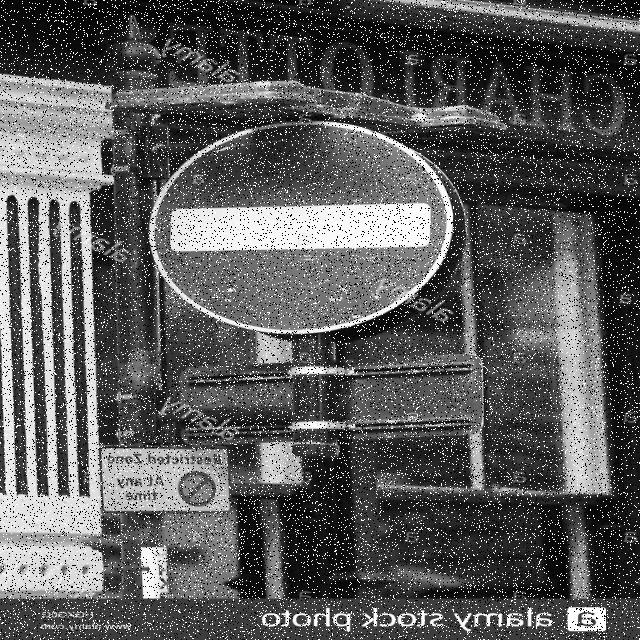no entry: (148, 124, 454, 333)
